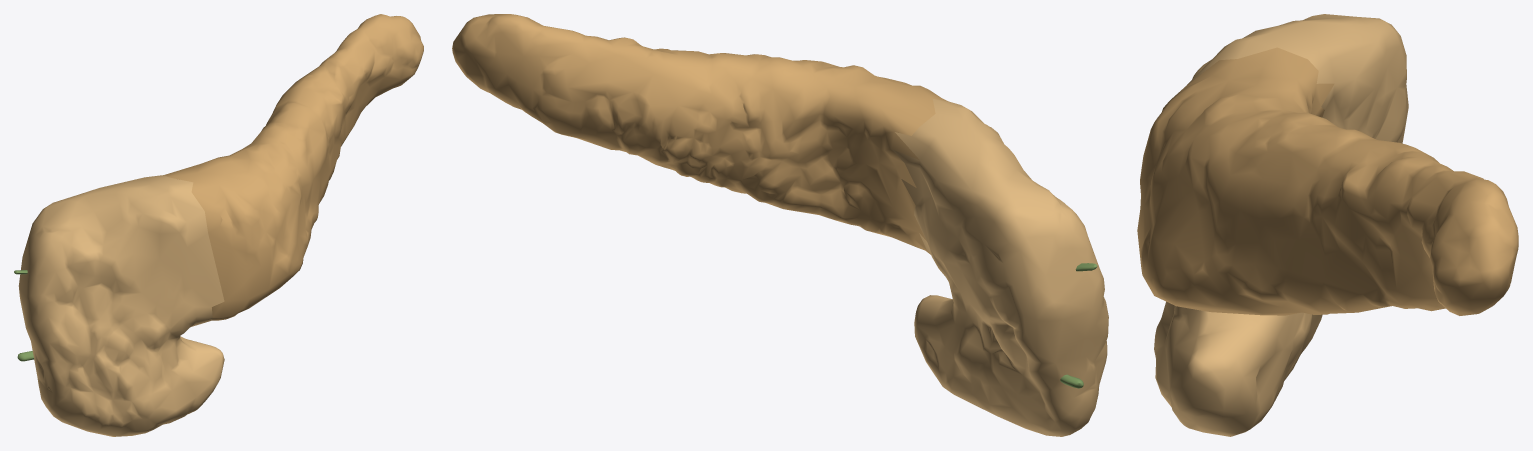
The model's file is pancreas.glb.
3 views of the same model, side by side, from view 1: azimuth 30°, elevation 25°; view 2: azimuth 150°, elevation 25°; view 3: azimuth 270°, elevation 25° (orthographic). The views are drawn at different scales.
Visible parts, largest first — view 1: pancreatic-head, pancreatic-body-and-tail; view 2: pancreatic-body-and-tail, pancreatic-head; view 3: pancreatic-body-and-tail, pancreatic-head.
Part boxes in pixels (left/top/right/bottom): pancreatic-head: left=18, top=175, right=224, bottom=436; pancreatic-body-and-tail: left=164, top=14, right=423, bottom=320; pancreatic-body-and-tail: left=452, top=14, right=947, bottom=254; pancreatic-head: left=892, top=99, right=1108, bottom=436; pancreatic-body-and-tail: left=1137, top=47, right=1518, bottom=315; pancreatic-head: left=1154, top=14, right=1408, bottom=436.
Bounding box in the file's own units: 1.96 × 1.18 × 0.8155.
